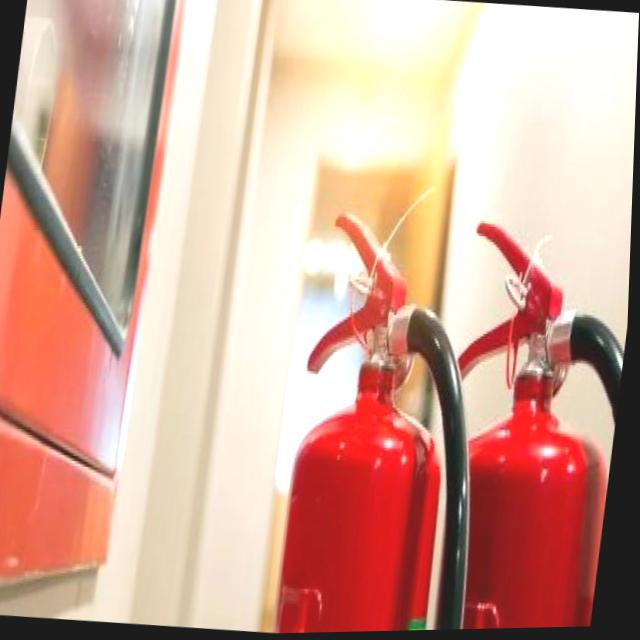FireExtinguisher: (267, 194, 526, 635), (399, 199, 634, 633)
